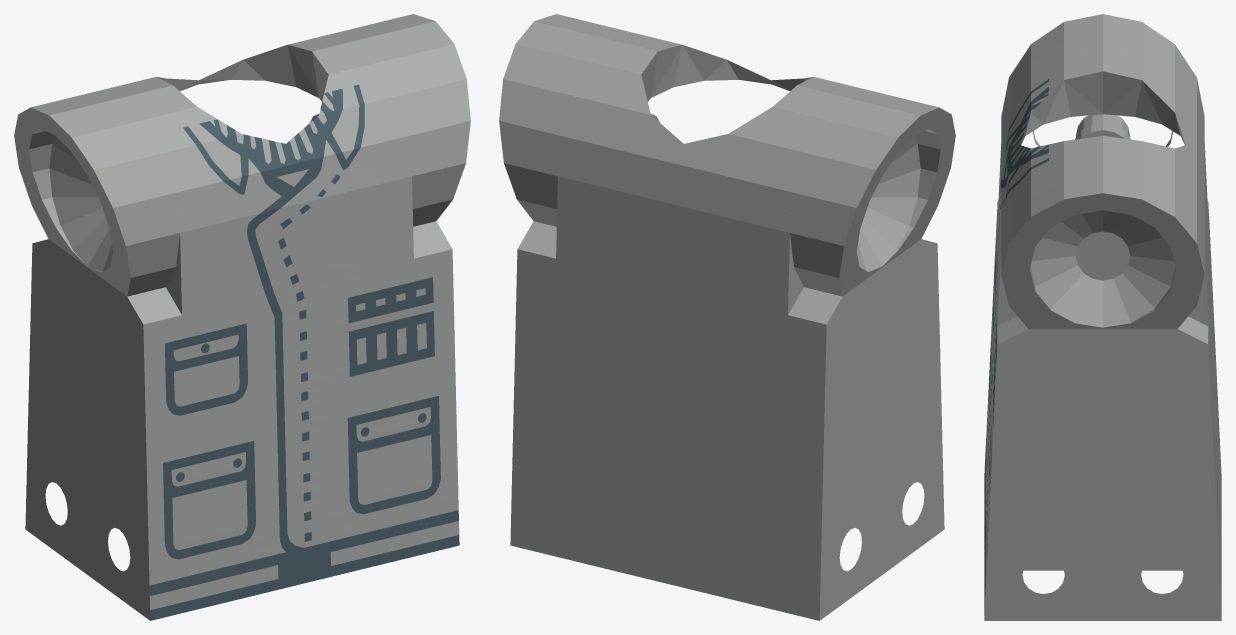
3 views of the same model, side by side, from view 1: azimuth 30°, elevation 25°; view 2: azimuth 150°, elevation 25°; view 3: azimuth 270°, elevation 25° (orthographic). The views are drawn at different scales.
Parts seen in each view (by area): view 1: world; view 2: world; view 3: world.
Part boxes in pixels (x1,y1,x2,y2): world: [14, 14, 470, 620]; world: [499, 14, 955, 620]; world: [984, 14, 1221, 620].
Bounding box in the file's own units: 0.02 × 0.0232 × 0.0112.
